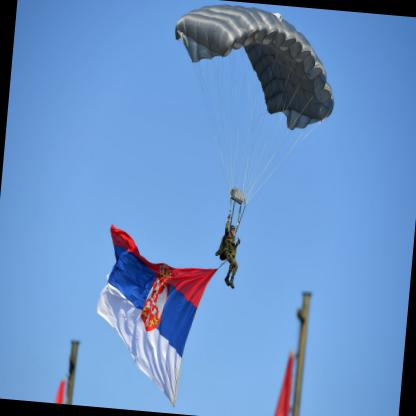rs: (90, 225, 223, 412)
